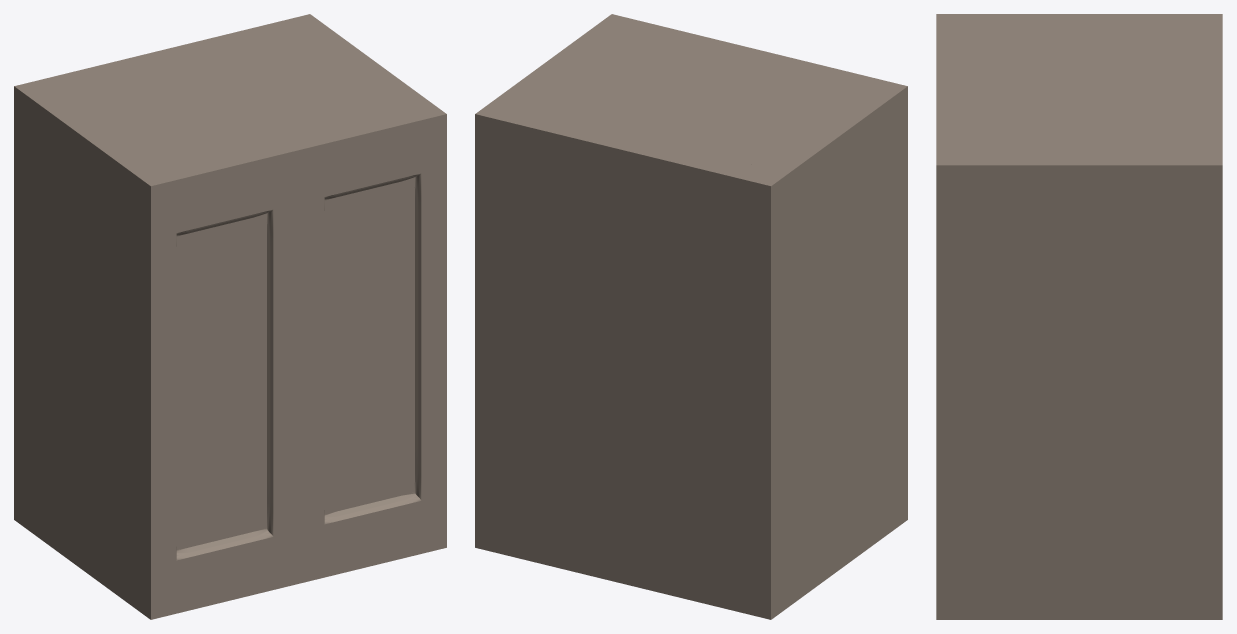
Rendered from Wall-Cabinet-21-High-12-Deep_std_001_W15in.glb.
3 views of the same model, side by side, from view 1: azimuth 30°, elevation 25°; view 2: azimuth 150°, elevation 25°; view 3: azimuth 270°, elevation 25° (orthographic). The views are drawn at different scales.
Parts seen in each view (by area): view 1: Wall-Cabinet-21-High-12-Deep.std.001_W15in; view 2: Wall-Cabinet-21-High-12-Deep.std.001_W15in; view 3: Wall-Cabinet-21-High-12-Deep.std.001_W15in.
Part boxes in pixels (x1,y1,x2,y2): Wall-Cabinet-21-High-12-Deep.std.001_W15in: (14, 14, 446, 619); Wall-Cabinet-21-High-12-Deep.std.001_W15in: (475, 14, 907, 619); Wall-Cabinet-21-High-12-Deep.std.001_W15in: (936, 14, 1222, 619).
Bounding box in the file's own units: 0.381 × 0.5334 × 0.3048.
